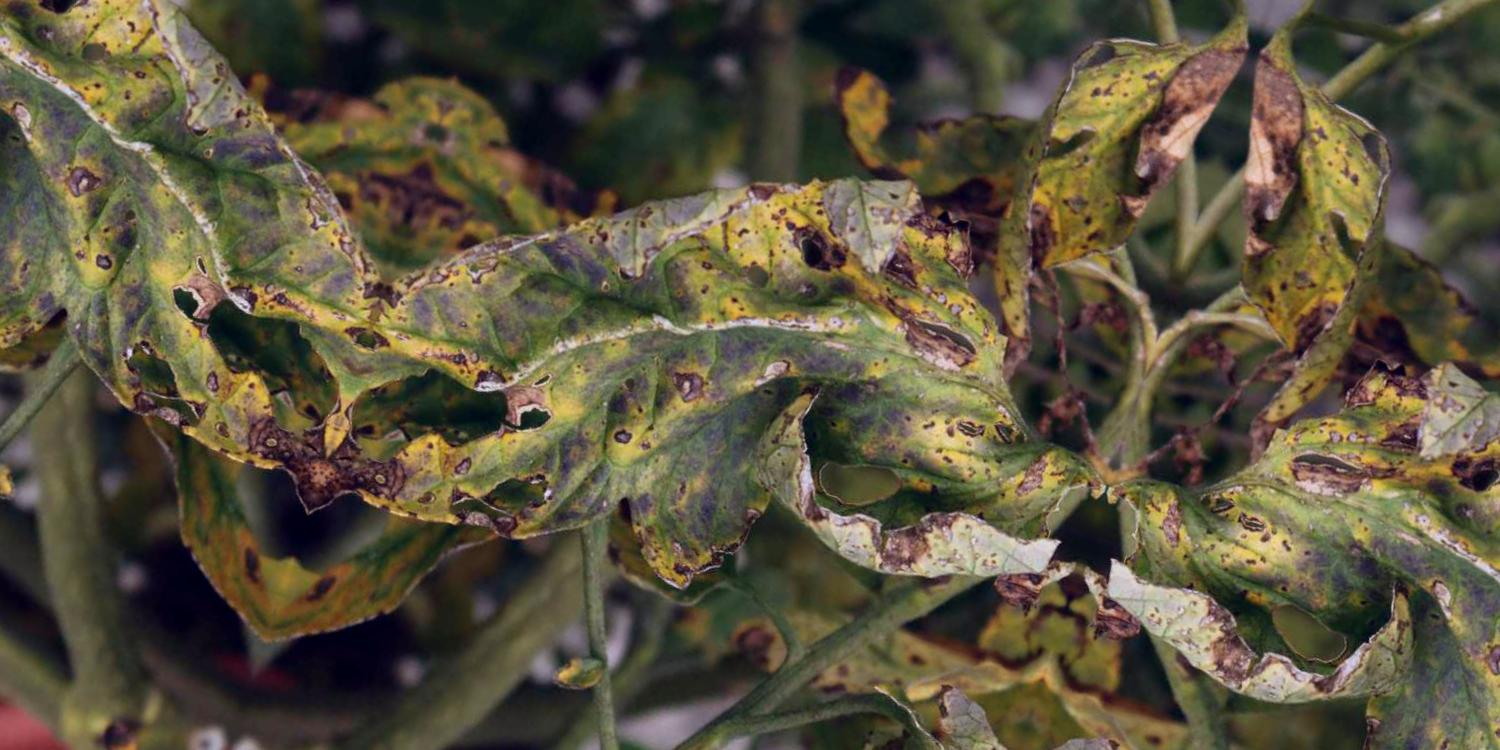Tomato Septoria leaf spot: (313, 29, 1159, 730), (975, 0, 1270, 344)
